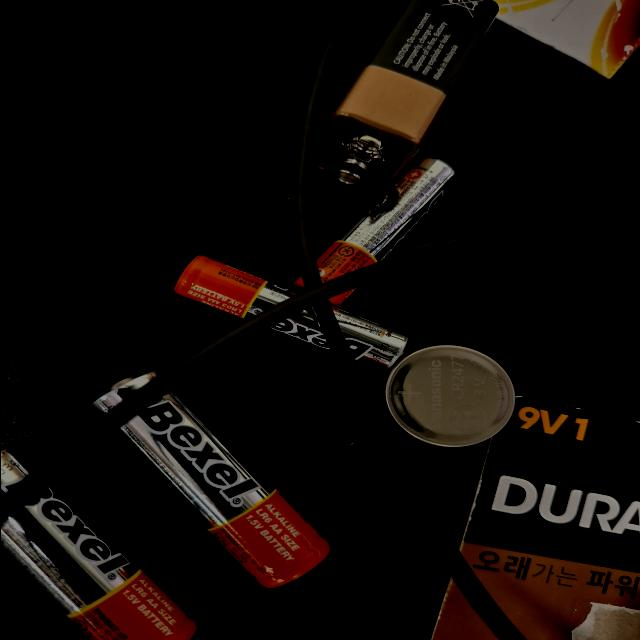AA: (281, 231, 568, 407), (380, 339, 639, 480)
AAA: (0, 137, 195, 259), (158, 174, 278, 325)
COIN: (249, 92, 383, 194)
